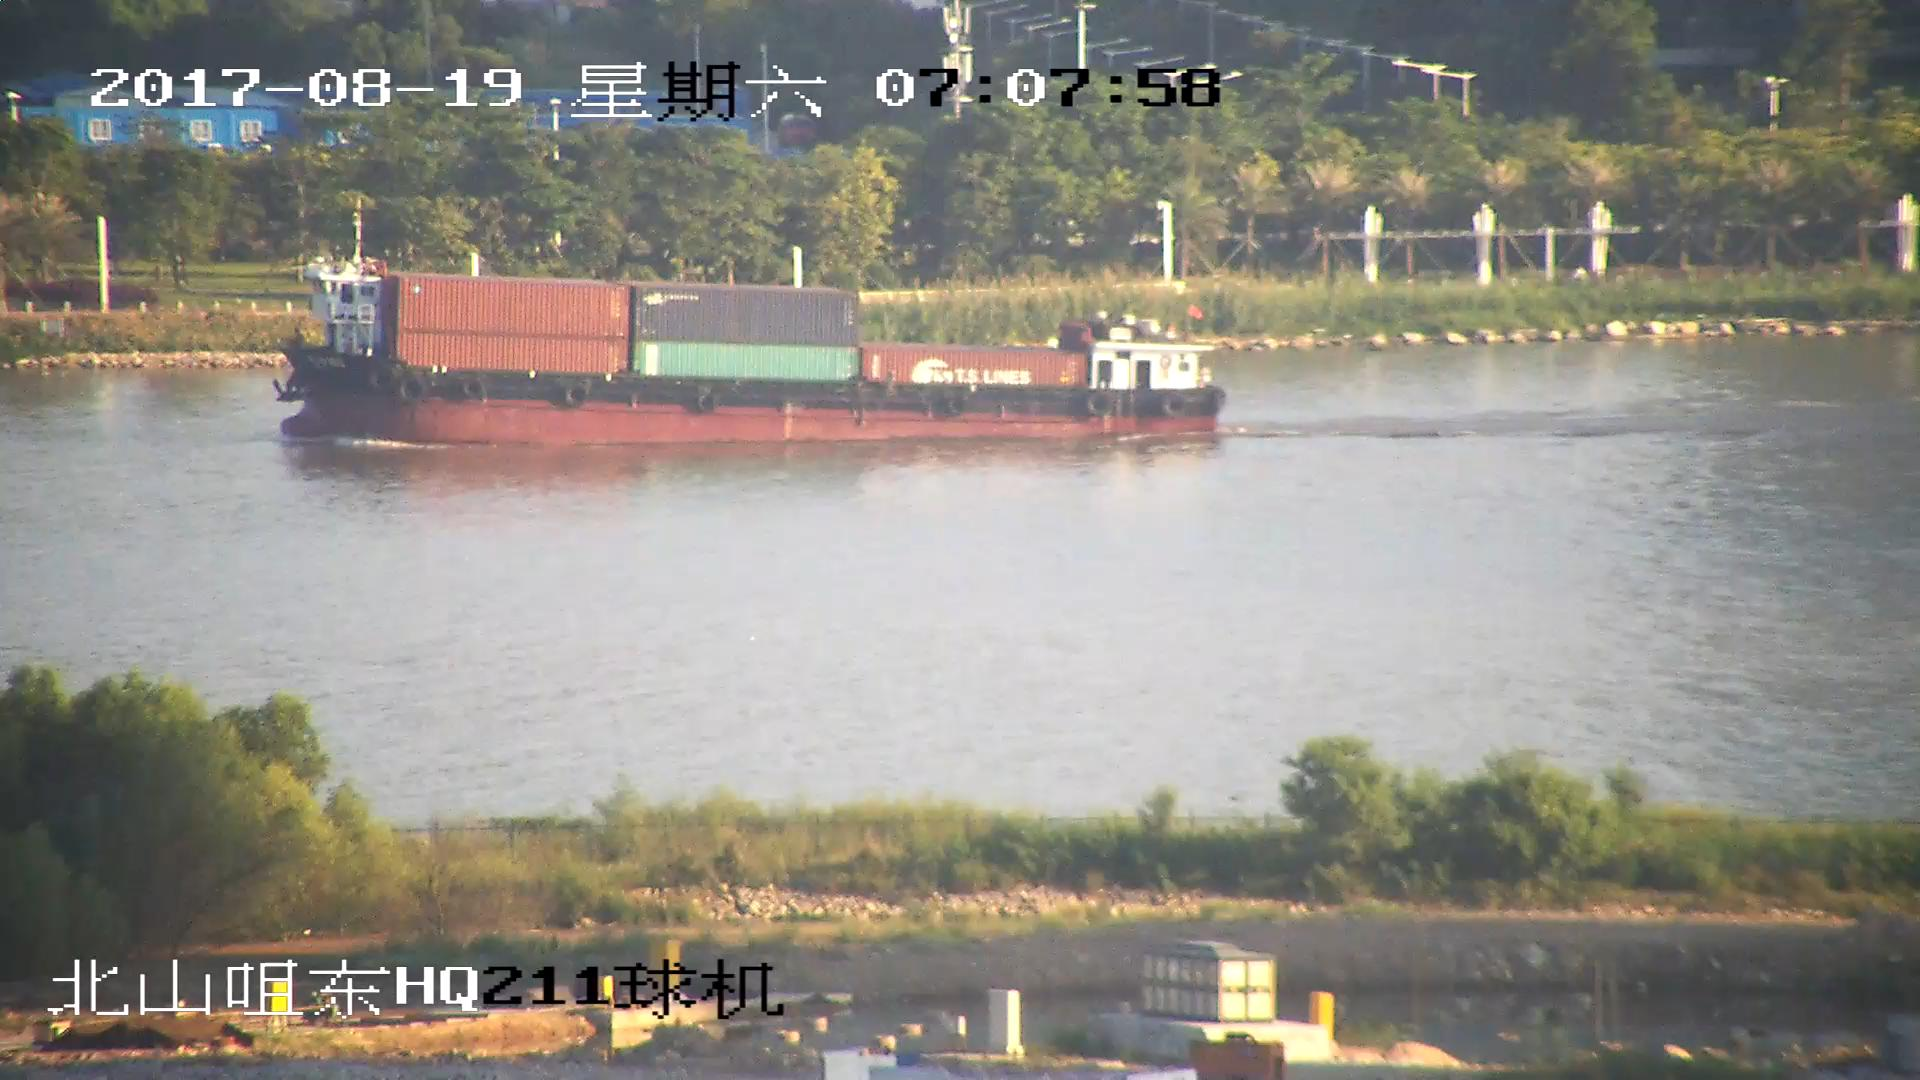container ship: (274, 205, 1227, 448)
